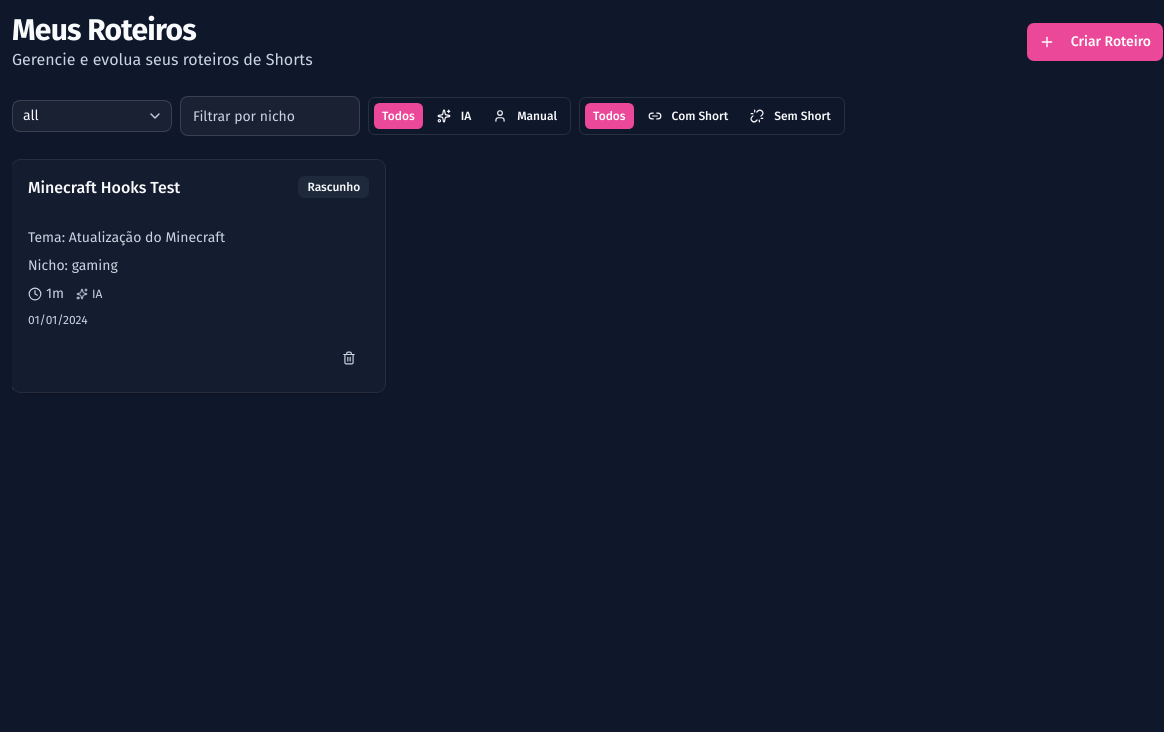
Scenario: Scripts Page — listagem › 7. empty state quando filtro de origem=manual não encontra roteiros IA
The width and height of the screenshot is (1164, 732).
Click the button with test id "scripts-origin-manual".
click(525, 116)  # box [484,102,566,130]
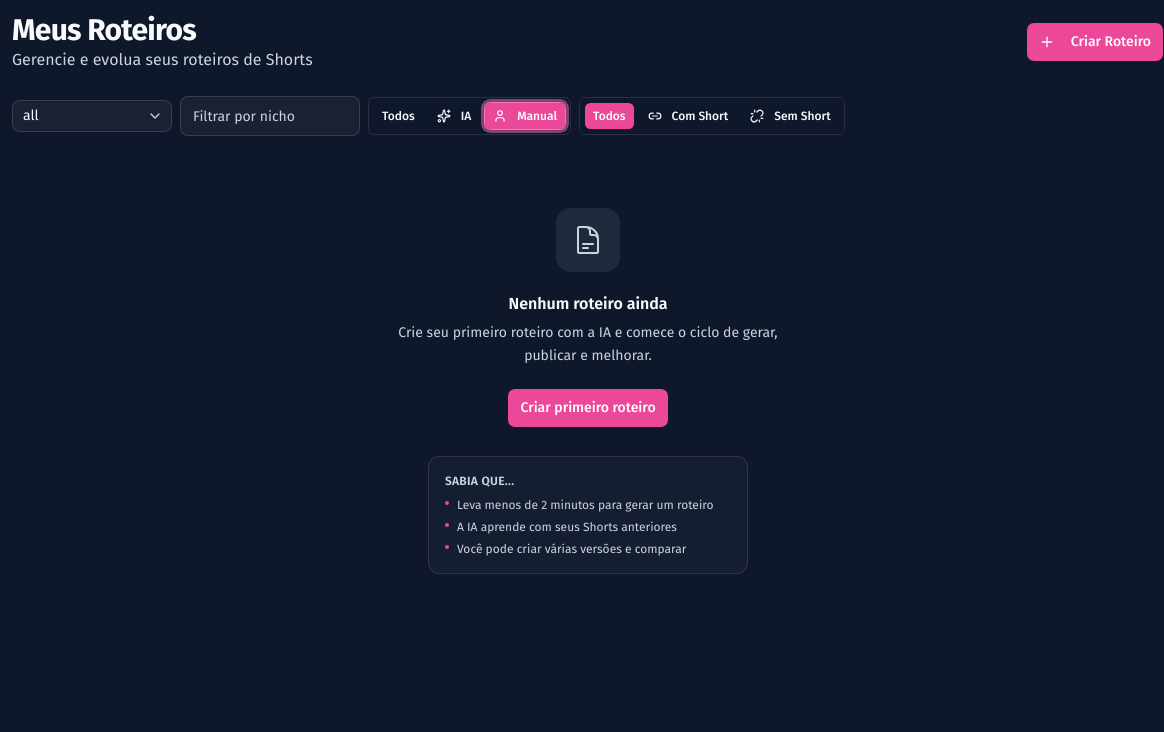
Check: no links with test id "script-card-link" are shown
